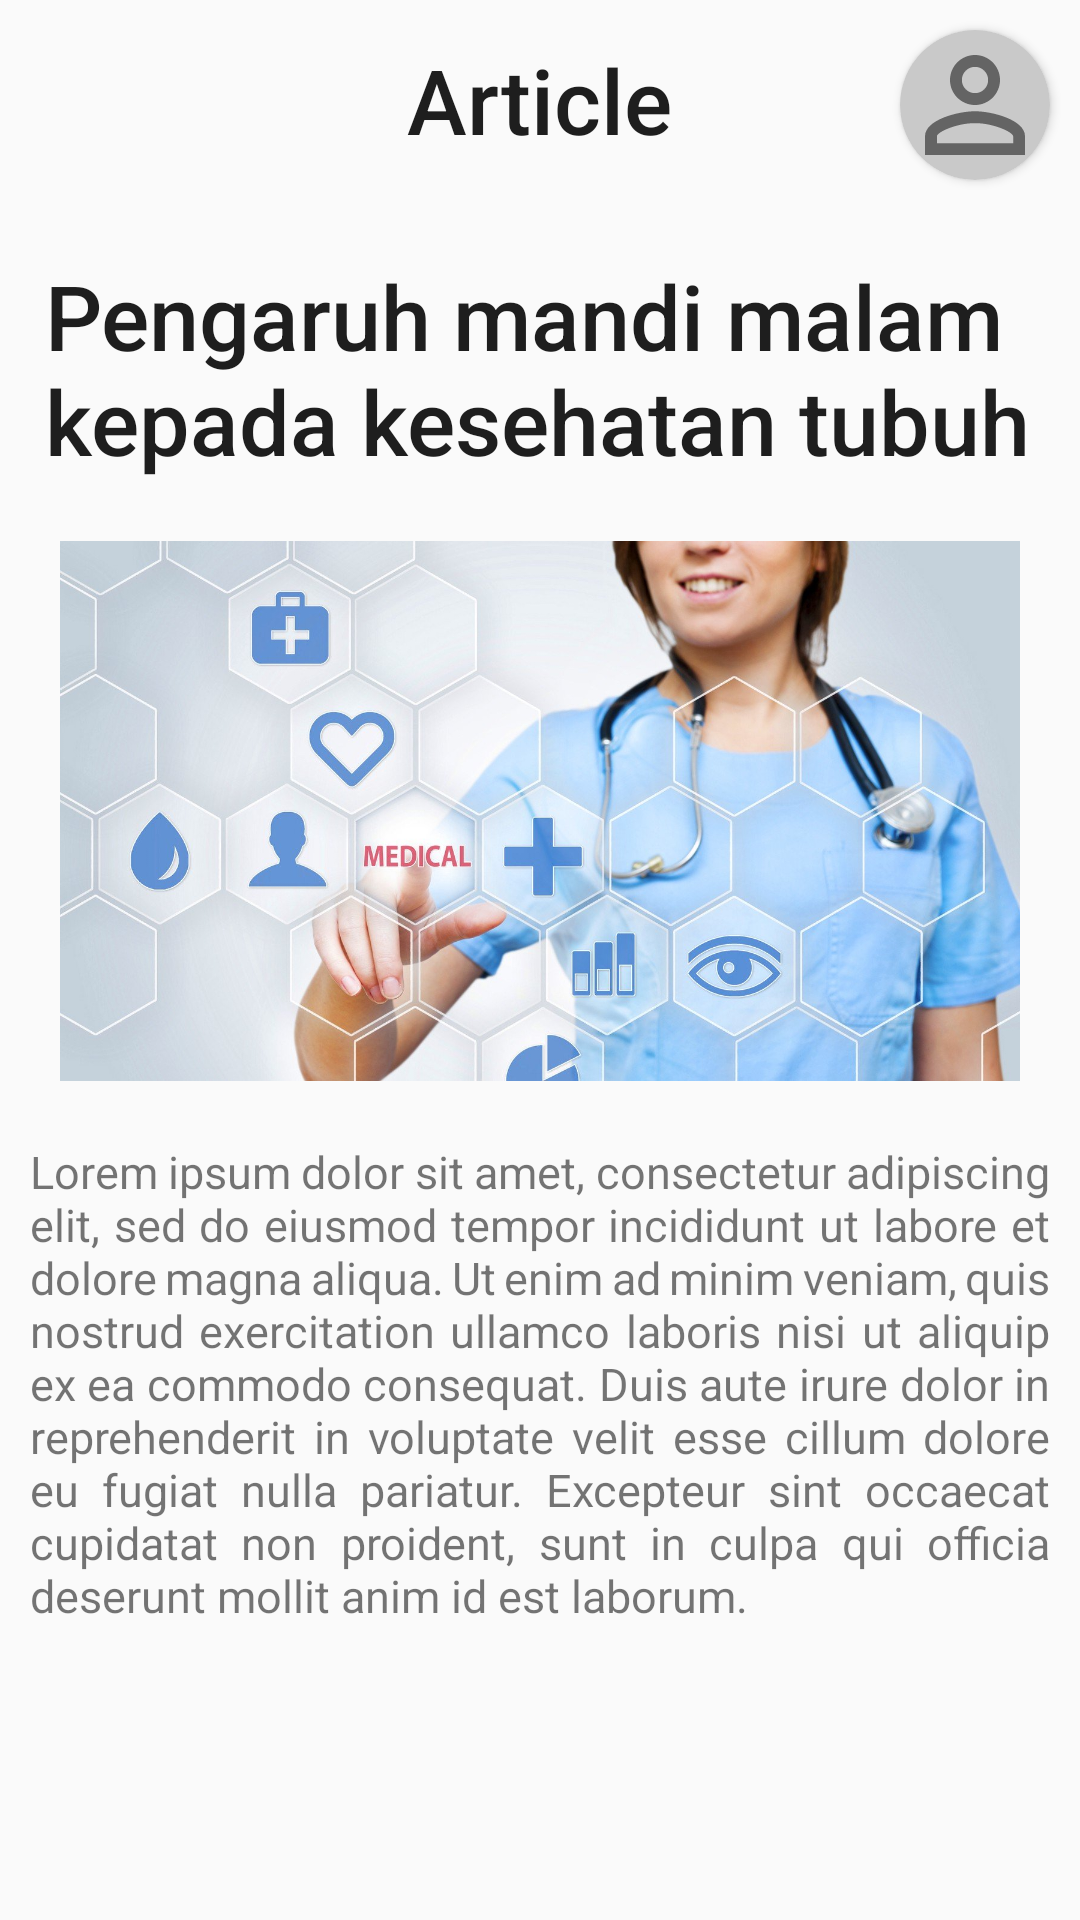

Icon click points for this 1080px x 1920px phone screenshot, format (x,y):
user profile: (975,105)
